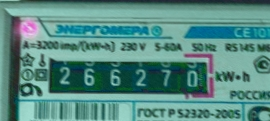0: (183, 66, 197, 86)
2: (56, 63, 69, 84), (133, 65, 146, 85)
6: (81, 64, 93, 85), (107, 65, 120, 84)
7: (159, 66, 169, 85)
screen: (34, 45, 218, 102)
